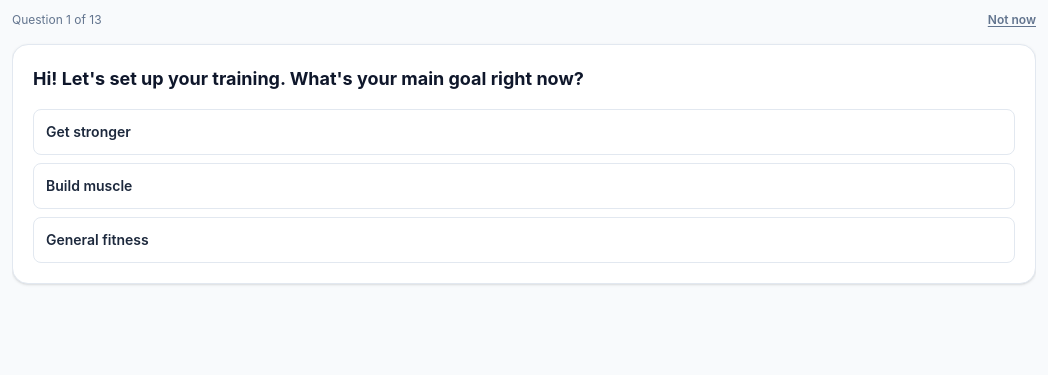
The setup conversation on Home (S-015) › asks one question at a time, with progress, and saves your place after each
The width and height of the screenshot is (1048, 375).
Expected: the text "Question 1 of 13" is shown, [12,12,102,28]
Expected: the text "What's your main goal right now?" is shown, [33,68,584,89]
Click the button "Get stronger".
click(88, 132)  # box [33,109,1015,155]
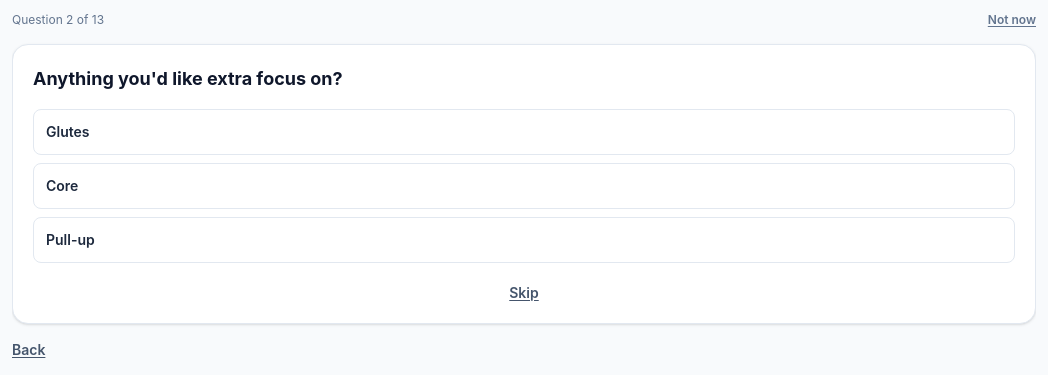
Expected: the text "Question 2 of 13" is shown, [12,12,104,28]
